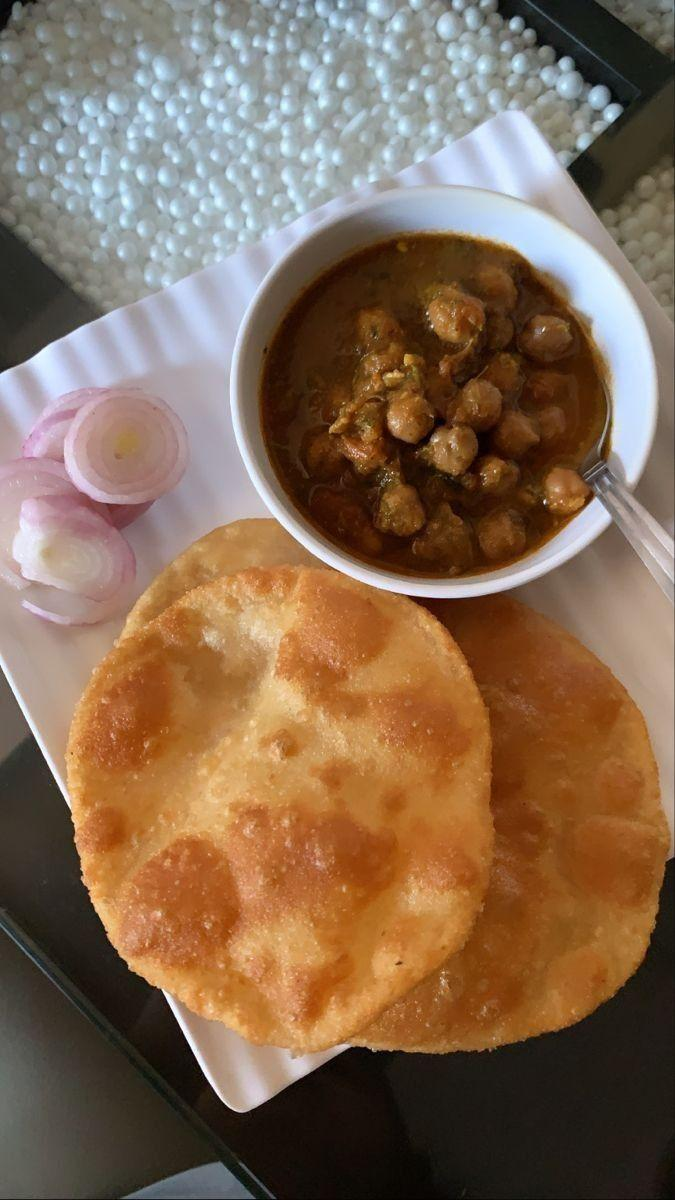chole: (272, 213, 632, 585)
puri: (155, 588, 632, 1039)
salad: (10, 383, 180, 628)
